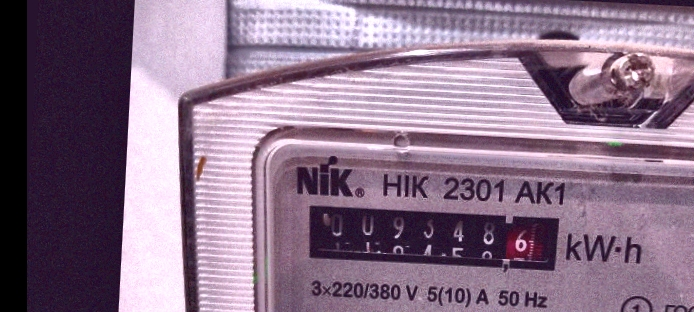0: (360, 212, 376, 236), (330, 210, 344, 237)
3: (421, 214, 436, 241)
4: (451, 216, 466, 243)
6: (512, 226, 531, 254)
8: (481, 218, 497, 247)
9: (390, 214, 406, 240)
screen: (297, 197, 570, 280)
